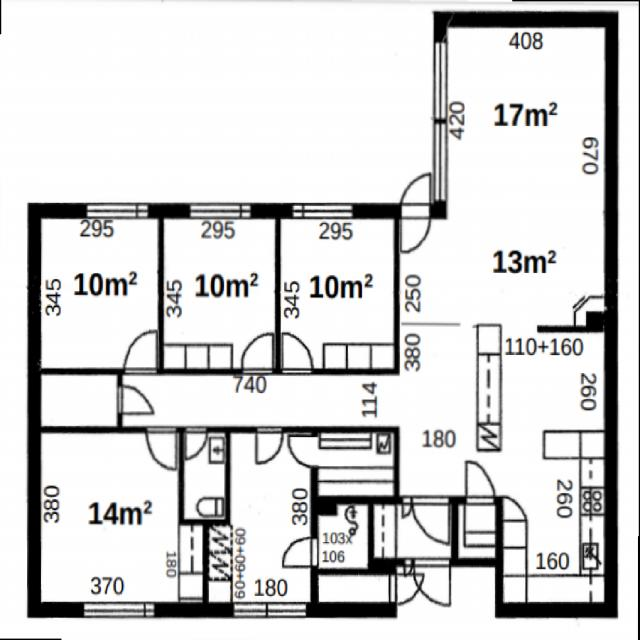door: (412, 498, 450, 547), (413, 560, 451, 609), (401, 170, 432, 219), (401, 204, 432, 252), (126, 334, 157, 374), (283, 334, 314, 374), (243, 334, 273, 374), (147, 428, 177, 467), (467, 466, 495, 504), (284, 437, 318, 466), (286, 540, 318, 568), (257, 428, 283, 462), (390, 576, 421, 603), (118, 386, 146, 414), (185, 428, 208, 457), (402, 498, 412, 516), (405, 560, 413, 576)
